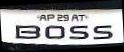character: (14, 24, 40, 39), (44, 23, 65, 39), (92, 24, 114, 39), (69, 24, 89, 39), (46, 13, 55, 21), (71, 13, 79, 22), (38, 14, 47, 21), (56, 13, 63, 21), (62, 13, 70, 20), (78, 13, 85, 21)
